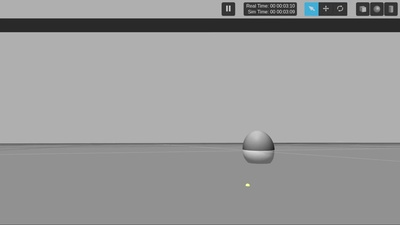mira_robot: (243, 131, 275, 163)
